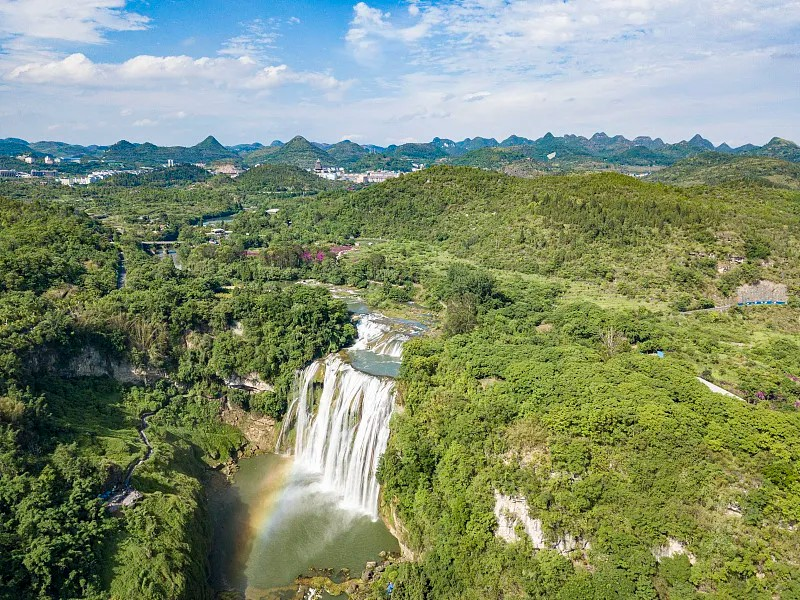Huangguoshu: (287, 314, 405, 516)
